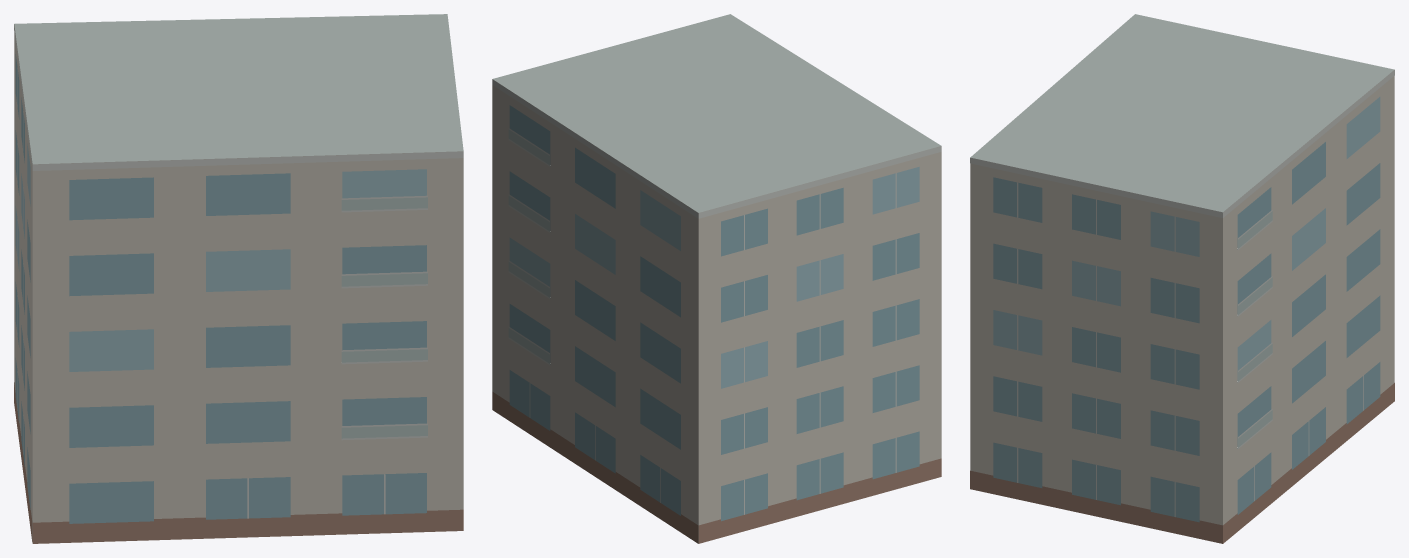
File: survey-upis-32885017.glb
3 views of the same model, side by side, from view 1: azimuth 30°, elevation 25°; view 2: azimuth 150°, elevation 25°; view 3: azimuth 270°, elevation 25° (orthographic). The views are drawn at different scales.
Parts seen in each view (by area): view 1: survey-upis-32885017.tmp; view 2: survey-upis-32885017.tmp; view 3: survey-upis-32885017.tmp.
Part boxes in pixels (x1,y1,x2,y2): survey-upis-32885017.tmp: [14, 14, 463, 543]; survey-upis-32885017.tmp: [492, 14, 941, 543]; survey-upis-32885017.tmp: [970, 14, 1394, 543].
Size of the model in its own units: 17.58 by 13.7 by 15.91.
